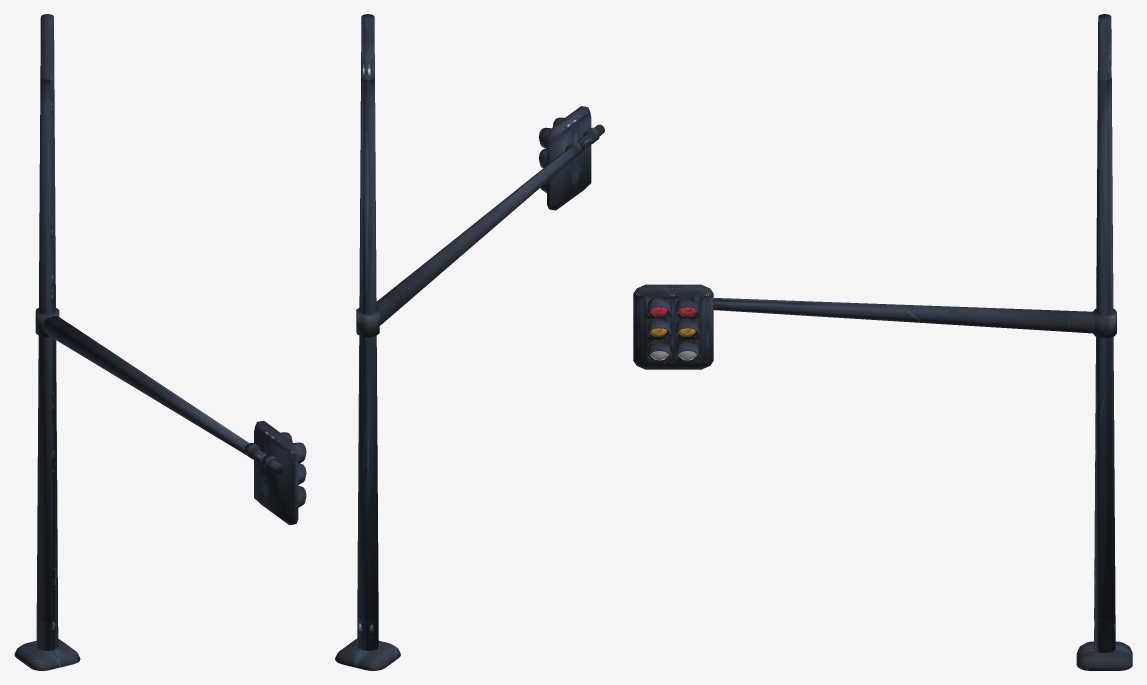
Rendered from TrafficLight3.fbx.
3 renders of one model, left to right at view 1: azimuth 30°, elevation 25°; view 2: azimuth 150°, elevation 25°; view 3: azimuth 270°, elevation 25°, orthographic.
Parts seen in each view (by area): view 1: Post0, beam0, frameDbl0, base0, cpls0, hoods0; view 2: Post0, beam0, frameDbl0, base0, cpls0, hoods0; view 3: Post0, beam0, frameDbl0, hoods0, base0.
Boxes of the visible parts, x1,y1,x2,y2 form: Post0: (36,14,58,650); beam0: (43,315,284,474); frameDbl0: (254,421,298,525); base0: (14,639,80,670); cpls0: (35,308,278,470); hoods0: (281,432,306,507); Post0: (357,14,378,650); beam0: (376,124,604,325); frameDbl0: (547,106,591,210); base0: (335,639,400,670); cpls0: (356,127,599,337); hoods0: (538,117,564,192); Post0: (1094,14,1115,652); beam0: (713,298,1095,333); frameDbl0: (633,284,713,369); hoods0: (647,296,699,360); base0: (1076,641,1132,670).
Size of the model in its own units: 1.01 by 10.65 by 7.51.
